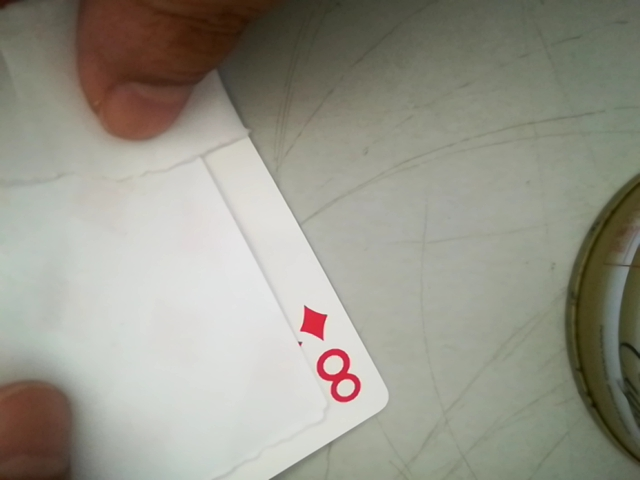fk 8: (295, 299, 362, 413)
